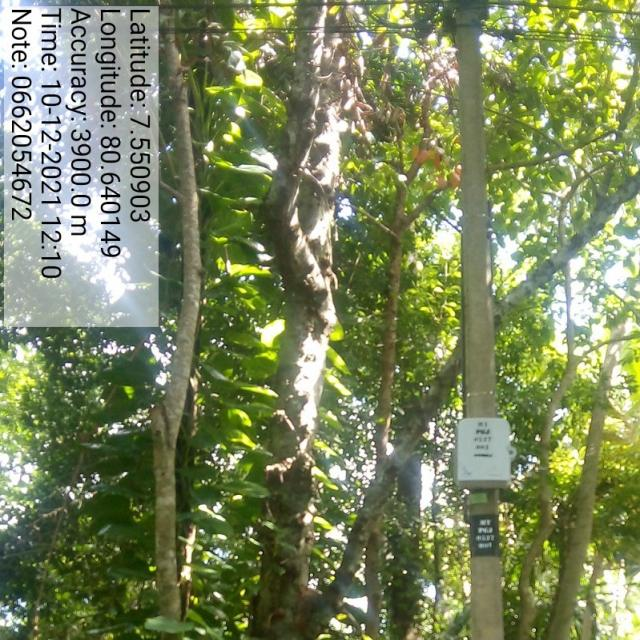light_pole: (442, 0, 525, 640)
